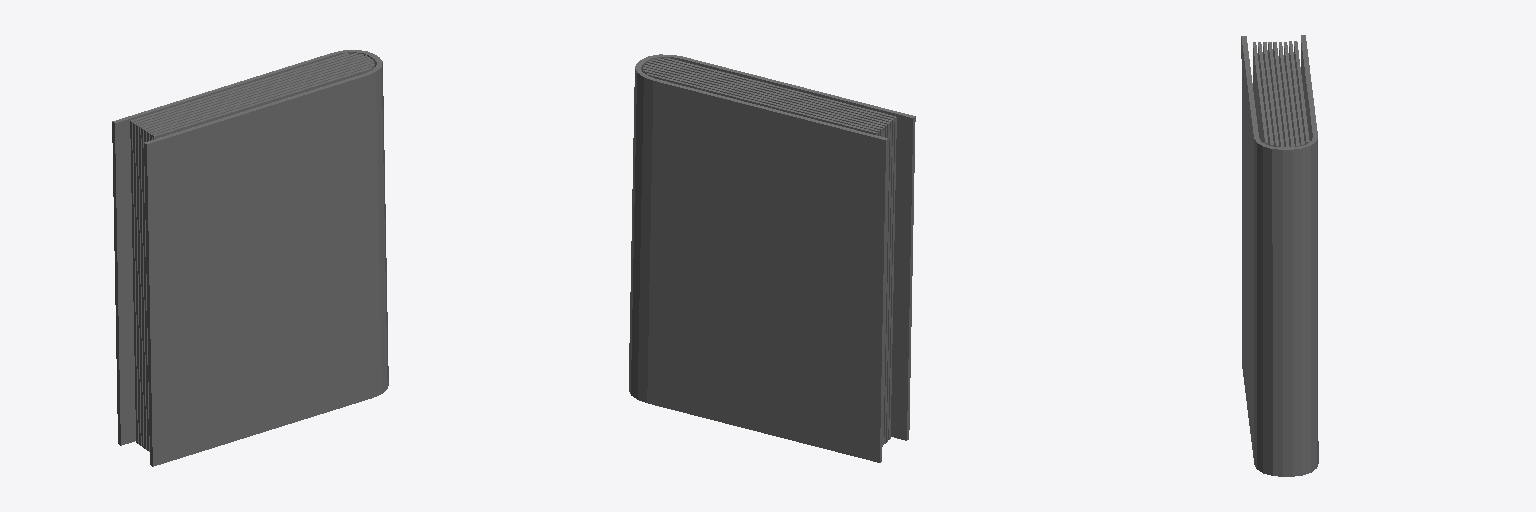
Rendered from book.obj.
3 renders of one model, left to right at view 1: azimuth 30°, elevation 25°; view 2: azimuth 150°, elevation 25°; view 3: azimuth 270°, elevation 25°, orthographic.
Visible parts, largest first — view 1: polySurface50; view 2: polySurface50; view 3: polySurface50.
Boxes of the visible parts, x1=… form: polySurface50: x1=112, y1=50, x2=388, y2=466; polySurface50: x1=629, y1=54, x2=915, y2=462; polySurface50: x1=1241, y1=35, x2=1318, y2=476.
Size of the model in its own units: 23.04 by 28.08 by 5.87.